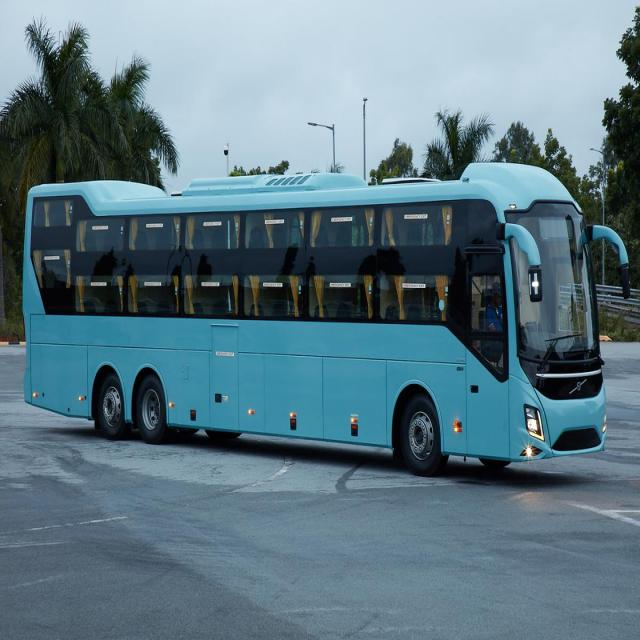bus: (18, 160, 633, 486)
